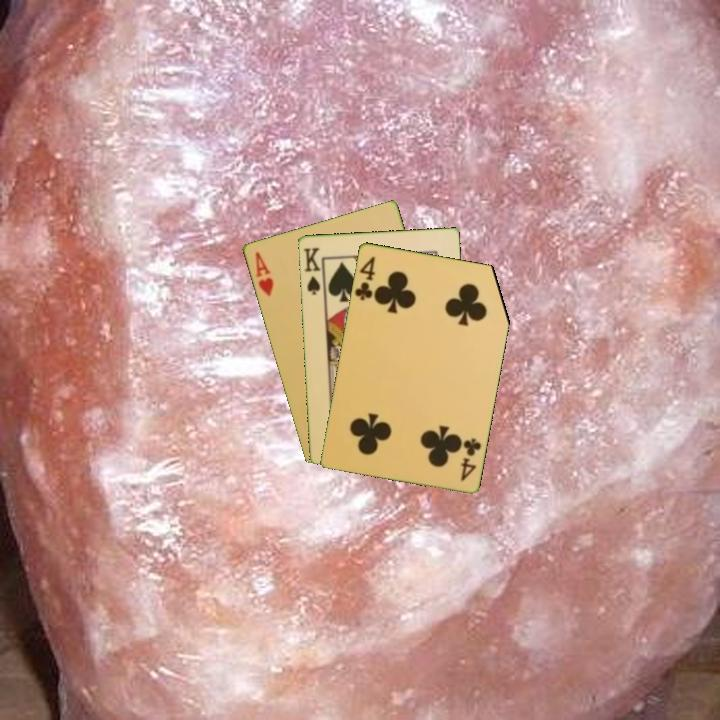4c: (351, 252, 378, 303), (457, 434, 484, 484)
Ah: (251, 248, 276, 299)
Ks: (300, 244, 326, 297)
